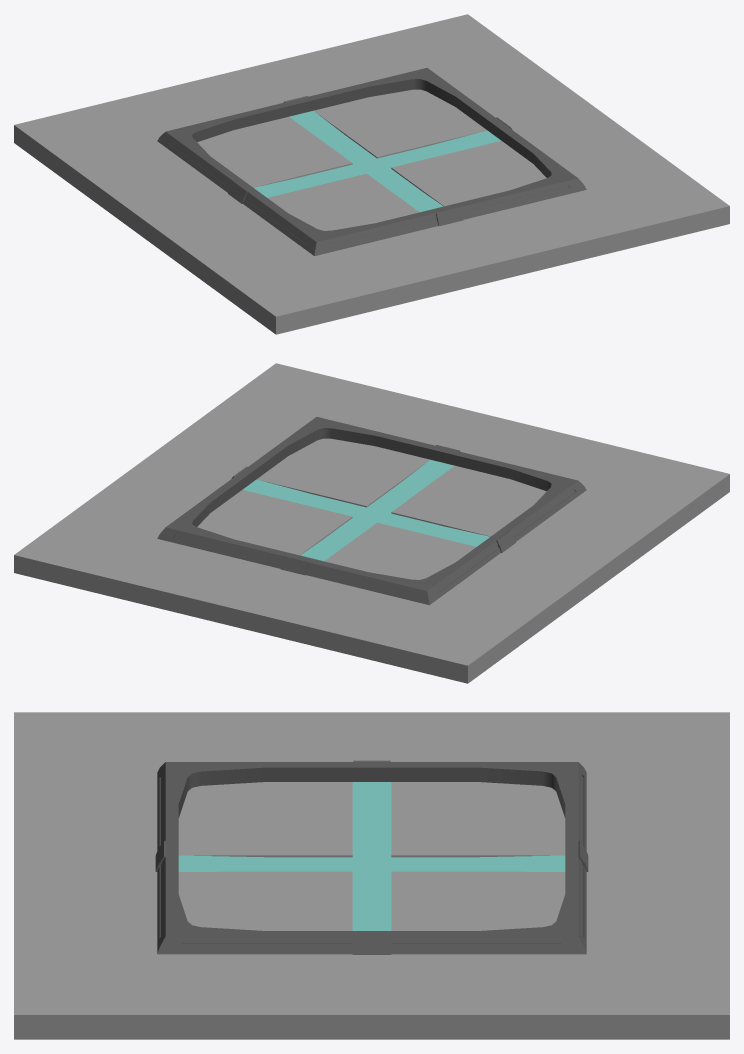
File: divingBell_floor_01.fbx
3 renders of one model, top to bottom at view 1: azimuth 30°, elevation 25°; view 2: azimuth 150°, elevation 25°; view 3: azimuth 270°, elevation 25°, orthographic. The views are drawn at different scales.
Visible parts, largest first — view 1: divingBell_floor_01; view 2: divingBell_floor_01; view 3: divingBell_floor_01.
Part boxes in pixels (x1,y1,x2,y2): divingBell_floor_01: [14, 14, 729, 334]; divingBell_floor_01: [14, 363, 729, 683]; divingBell_floor_01: [14, 712, 729, 1039].
Size of the model in its own units: 20.83 by 1.28 by 20.83.
